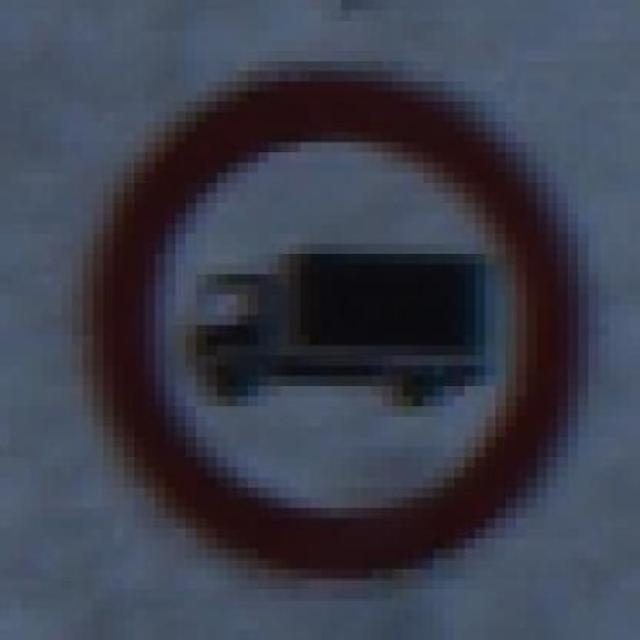Truck traffic is prohibited: (61, 38, 598, 597)
